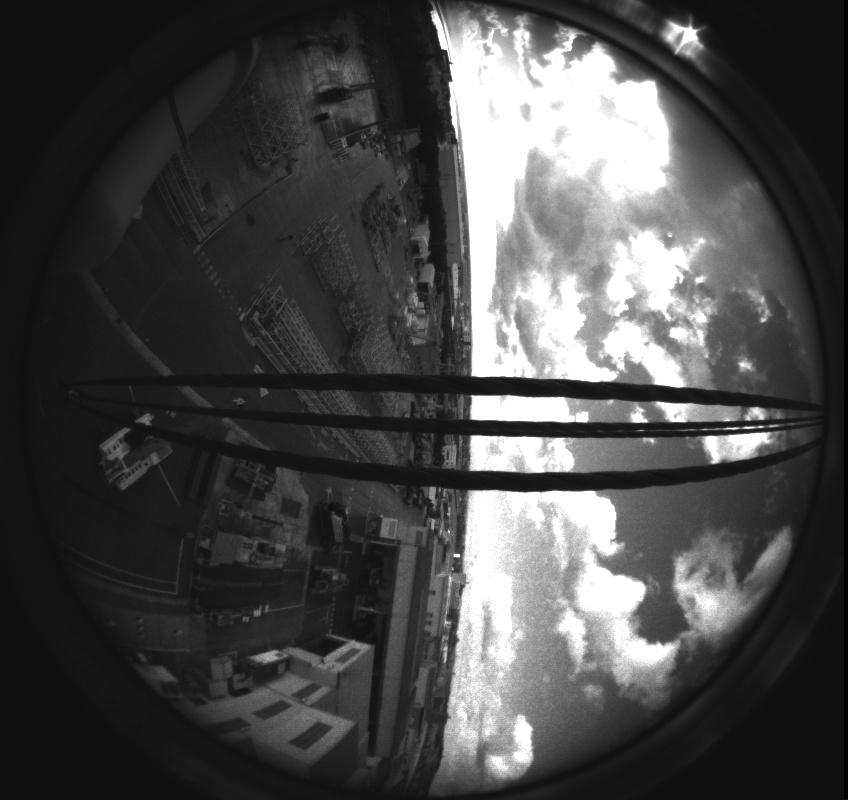rope: (8, 363, 841, 501)
